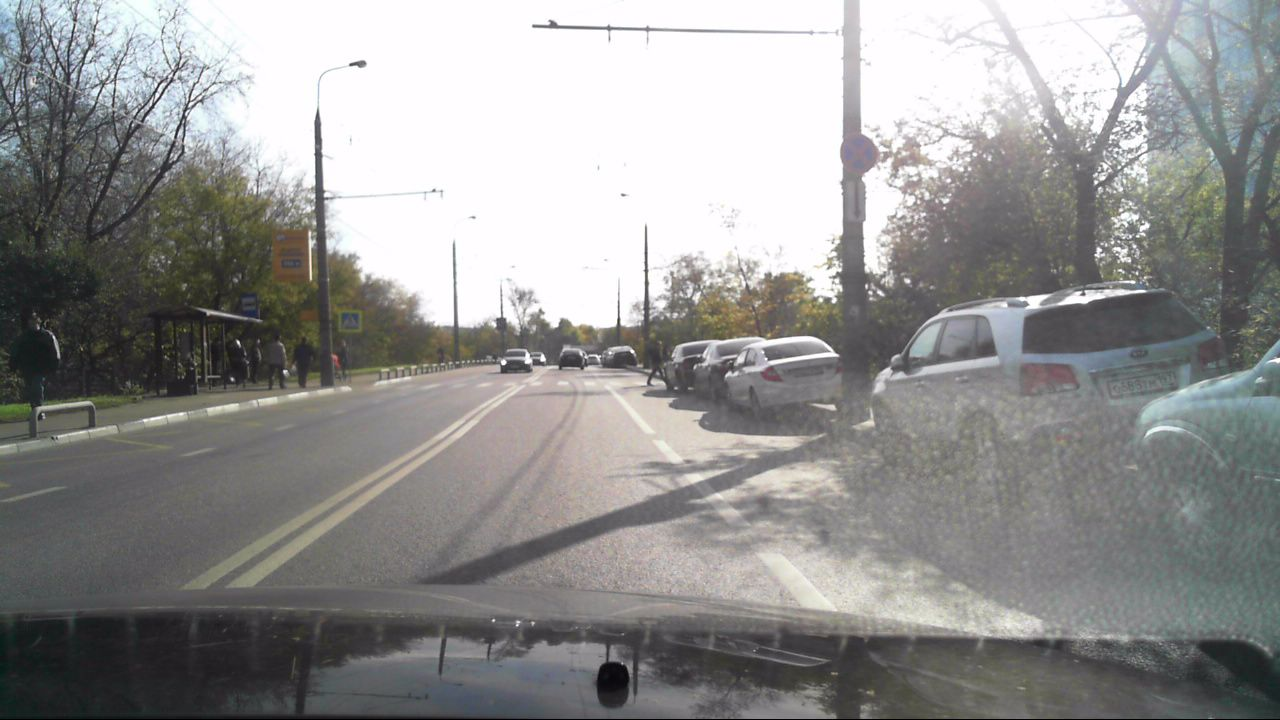No Parking: (839, 134, 879, 172)
